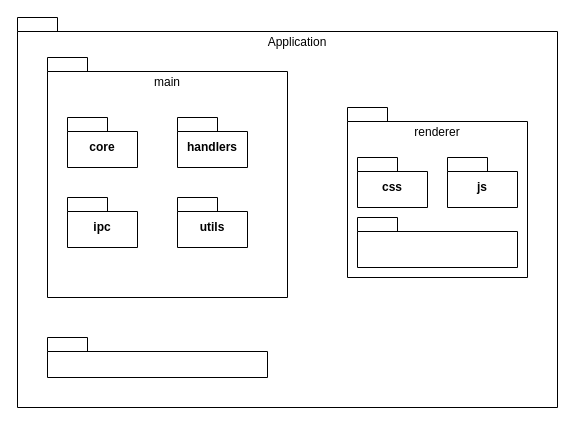
This 575x425 diagram has some shape labels left out. The box of each missing label's shape, as (x1, y1, x2, y2) in pixels:
pages: (356, 216, 518, 268)
resources: (46, 336, 268, 378)
